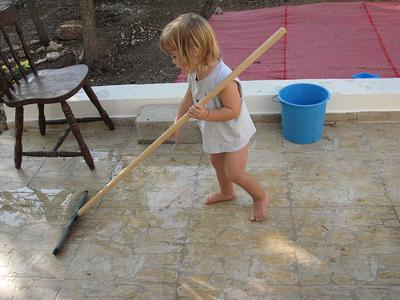person: (159, 14, 271, 222)
